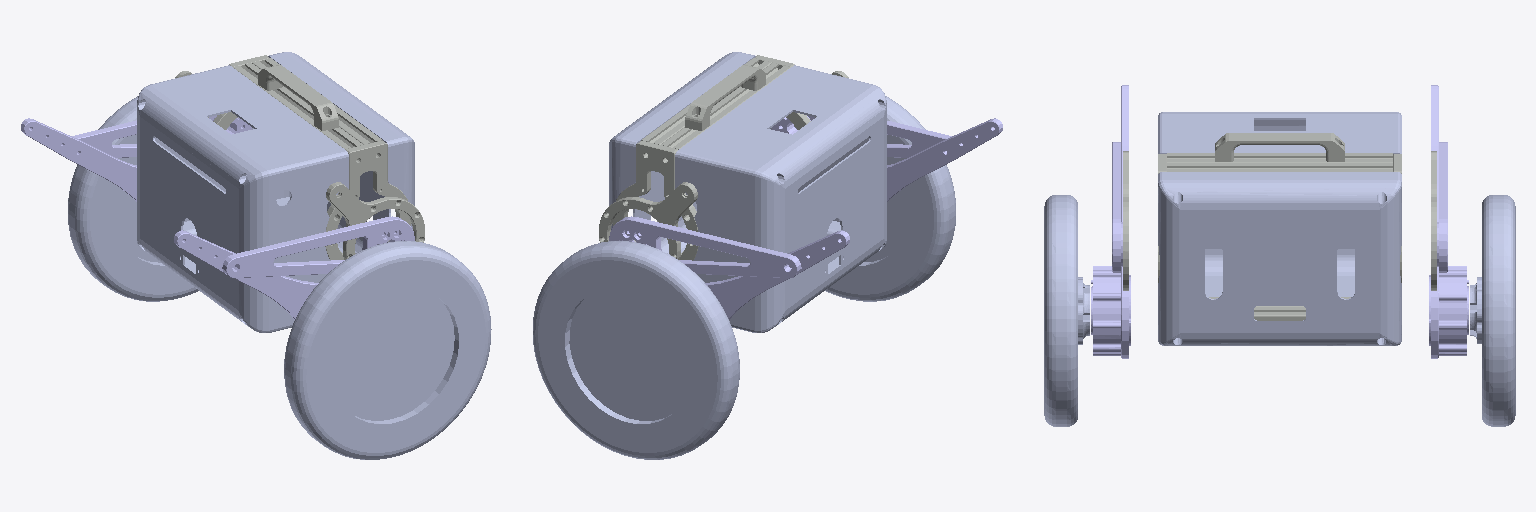
The robot description file, URDF, robot "Edu_v4":
<?xml version="1.0" encoding="utf-8"?>
<!-- This URDF was automatically created by SolidWorks to URDF Exporter! Originally created by [author] ([email redacted]) 
     Commit Version: 1.6.0-4-g7f85cfe  Build Version: 1.6.7995.38578
     For more information, please see http://wiki.ros.org/sw_urdf_exporter -->
<robot
  name="Edu_v4">
  <link
    name="base_link">
    <inertial>
      <origin xyz="-0.00589457 0.00113829 -0.05282656"/>
      <mass value="2.56800000"/>
      <inertia ixx="0.01981432" ixy="-0.00000000" ixz="0.00057678" iyy="0.00625385" iyz="-0.00000000" izz="0.01642957"/>
    </inertial>
    <visual>
      <origin
        xyz="0 0 0"
        rpy="0 0 0" />
      <geometry>
        <mesh
          filename="../meshes/base_link.STL" />
      </geometry>
      <material
        name="">
        <color
          rgba="0.756862745098039 0.768627450980392 0.752941176470588 1" />
      </material>
    </visual>
    <collision>
      <origin
        xyz="0 0 0"
        rpy="0 0 0" />
      <geometry>
        <mesh
          filename="../meshes/base_link.STL" />
      </geometry>
    </collision>
  </link>
  <link
    name="left_shoulder_link">
    <inertial>
      <origin xyz="0.02319287 0.00232951 0.00696198"/>
      <mass value="0.15000000"/>
      <inertia ixx="0.00002297" ixy="-0.00003393" ixz="-0.00000368" iyy="0.00037816" iyz="-0.00000035" izz="0.00039819"/>
    </inertial>
    <visual>
      <origin
        xyz="0 0 0"
        rpy="0 0 0" />
      <geometry>
        <mesh
          filename="../meshes/left_shoulder_link.STL" />
      </geometry>
      <material
        name="">
        <color
          rgba="0.823529411764706 0.823529411764706 1 1" />
      </material>
    </visual>
    <collision>
      <origin
        xyz="0 0 0"
        rpy="0 0 0" />
      <geometry>
        <mesh
          filename="../meshes/left_shoulder_link.STL" />
      </geometry>
    </collision>
  </link>
  <joint
    name="left_shoulder_joint"
    type="revolute">
    <origin
      xyz="-0.004 0.136 -0.08"
      rpy="1.5708 0 -3.1416" />
    <parent
      link="base_link" />
    <child
      link="left_shoulder_link" />
    <axis
      xyz="0 0 1" />
    <limit
      lower="-1.2754"
      upper="0"
      effort="12"
      velocity="30" />
  </joint>
  <link
    name="left_leg_link">
    <inertial>
      <origin xyz="-0.11633099 -0.08320597 0.00347048"/>
      <mass value="0.44700000"/>
      <inertia ixx="0.00065381" ixy="-0.00064252" ixz="0.00005613" iyy="0.00108827" iyz="0.00004032" izz="0.00166657"/>
    </inertial>
    <visual>
      <origin
        xyz="0 0 0"
        rpy="0 0 0" />
      <geometry>
        <mesh
          filename="../meshes/left_leg_link.STL" />
      </geometry>
      <material
        name="">
        <color
          rgba="0.823529411764706 0.823529411764706 1 1" />
      </material>
    </visual>
    <collision>
      <origin
        xyz="0 0 0"
        rpy="0 0 0" />
      <geometry>
        <mesh
          filename="../meshes/left_leg_link.STL" />
      </geometry>
    </collision>
  </link>
  <joint
    name="left_leg_joint"
    type="revolute">
    <origin
      xyz="0.15929 0.015078 0.00045"
      rpy="0 0 0" />
    <parent
      link="left_shoulder_link" />
    <child
      link="left_leg_link" />
    <axis
      xyz="0 0 1" />
    <limit
      lower="0"
      upper="2.618"
      effort="12"
      velocity="30" />
  </joint>
  <link
    name="left_wheel_link">
    <inertial>
      <origin xyz="-0.00010105 0.00002337 0.01451599"/>
      <mass value="0.54500000"/>
      <inertia ixx="0.00136908" ixy="-0.00000000" ixz="0.00000000" iyy="0.00136908" iyz="0.00000000" izz="0.00263239"/>
    </inertial>
    <visual>
      <origin
        xyz="0 0 0"
        rpy="0 0 0" />
      <geometry>
        <mesh
          filename="../meshes/left_wheel_link.STL" />
      </geometry>
      <material
        name="">
        <color
          rgba="0.792156862745098 0.819607843137255 0.933333333333333 1" />
      </material>
    </visual>
    <collision>
      <origin
        xyz="0 0 0"
        rpy="0 0 0" />
      <geometry>
        <mesh
          filename="../meshes/left_wheel_link.STL" />
      </geometry>
    </collision>
  </link>
  <joint
    name="left_wheel_joint"
    type="continuous">
    <origin
      xyz="-0.13 -0.093274 0.0315"
      rpy="0 0 0" />
    <parent
      link="left_leg_link" />
    <child
      link="left_wheel_link" />
    <axis
      xyz="0 0 1" />
    <limit
      effort="12"
      velocity="30" />
  </joint>
  <link
    name="right_shoulder_link">
    <inertial>
      <origin xyz="-0.02321802 0.00206382 0.00696198"/>
      <mass value="0.15000000"/>
      <inertia ixx="0.00002297" ixy="0.00003393" ixz="0.00000368" iyy="0.00037816" iyz="-0.00000035" izz="0.00039819"/>
    </inertial>
    <visual>
      <origin
        xyz="0 0 0"
        rpy="0 0 0" />
      <geometry>
        <mesh
          filename="../meshes/right_shoulder_link.STL" />
      </geometry>
      <material
        name="">
        <color
          rgba="0.823529411764706 0.823529411764706 1 1" />
      </material>
    </visual>
    <collision>
      <origin
        xyz="0 0 0"
        rpy="0 0 0" />
      <geometry>
        <mesh
          filename="../meshes/right_shoulder_link.STL" />
      </geometry>
    </collision>
  </link>
  <joint
    name="right_shoulder_joint"
    type="revolute">
    <origin
      xyz="-0.004 -0.136 -0.08"
      rpy="1.5708 0 0" />
    <parent
      link="base_link" />
    <child
      link="right_shoulder_link" />
    <axis
      xyz="0 0 -1" />
    <limit
      lower="-1.2754"
      upper="0"
      effort="12"
      velocity="30" />
  </joint>
  <link
    name="right_leg_link">
    <inertial>
      <origin xyz="0.11608679 -0.08355273 0.00347179"/>
      <mass value="0.44700000"/>
      <inertia ixx="0.00065376" ixy="0.00064250" ixz="-0.00005617" iyy="0.00108832" iyz="0.00004026" izz="0.00166657"/>
    </inertial>
    <visual>
      <origin
        xyz="0 0 0"
        rpy="0 0 0" />
      <geometry>
        <mesh
          filename="../meshes/right_leg_link.STL" />
      </geometry>
      <material
        name="">
        <color
          rgba="0.823529411764706 0.823529411764706 1 1" />
      </material>
    </visual>
    <collision>
      <origin
        xyz="0 0 0"
        rpy="0 0 0" />
      <geometry>
        <mesh
          filename="../meshes/right_leg_link.STL" />
      </geometry>
    </collision>
  </link>
  <joint
    name="right_leg_joint"
    type="revolute">
    <origin
      xyz="-0.15929 0.015078 0.00045"
      rpy="0 0 0" />
    <parent
      link="right_shoulder_link" />
    <child
      link="right_leg_link" />
    <axis
      xyz="0 0 -1" />
    <limit
      lower="0"
      upper="2.618"
      effort="12"
      velocity="30" />
  </joint>
  <link
    name="right_wheel_link">
    <inertial>
      <origin xyz="-0.00001023 0.00010322 0.01451599"/>
      <mass value="0.54500000"/>
      <inertia ixx="0.00136908" ixy="0.00000000" ixz="0.00000000" iyy="0.00136908" iyz="-0.00000000" izz="0.00263239"/>
    </inertial>
    <visual>
      <origin
        xyz="0 0 0"
        rpy="0 0 0" />
      <geometry>
        <mesh
          filename="../meshes/right_wheel_link.STL" />
      </geometry>
      <material
        name="">
        <color
          rgba="0.792156862745098 0.819607843137255 0.933333333333333 1" />
      </material>
    </visual>
    <collision>
      <origin
        xyz="0 0 0"
        rpy="0 0 0" />
      <geometry>
        <mesh
          filename="../meshes/right_wheel_link.STL" />
      </geometry>
    </collision>
  </link>
  <joint
    name="right_wheel_joint"
    type="continuous">
    <origin
      xyz="0.13 -0.093274 0.0315"
      rpy="0 0 0" />
    <parent
      link="right_leg_link" />
    <child
      link="right_wheel_link" />
    <axis
      xyz="0 0 -1" />
    <limit
      effort="12"
      velocity="30" />
  </joint>
  <!-- <link
    name="left_upper_link">
    <inertial>
      <origin xyz="0.07991445 -0.00369865 -0.00000000"/>
      <mass value="0.04273000"/>
      <inertia ixx="0.00000120" ixy="0.00000481" ixz="-0.00000000" iyy="0.00010494" iyz="0.00000000" izz="0.00010569"/>
    </inertial>
    <visual>
      <origin
        xyz="0 0 0"
        rpy="0 0 0" />
      <geometry>
        <mesh
          filename="../meshes/left_upper_link.STL" />
      </geometry>
      <material
        name="">
        <color
          rgba="0.823529411764706 0.823529411764706 1 1" />
      </material>
    </visual>
    <collision>
      <origin
        xyz="0 0 0"
        rpy="0 0 0" />
      <geometry>
        <mesh
          filename="../meshes/left_upper_link.STL" />
      </geometry>
    </collision>
  </link>
  <joint
    name="left_upper_joint"
    type="revolute">
    <origin
      xyz="-0.052209 0.143 -0.022547"
      rpy="1.5708 0 3.1416" />
    <parent
      link="base_link" />
    <child
      link="left_upper_link" />
    <axis
      xyz="0 0 1" />
    <limit
      lower="-1.0754"
      upper="1.0754"
      effort="12"
      velocity="30" />
  </joint> -->
  <!-- <link
    name="right_upper_link">
    <inertial>
      <origin xyz="-0.07991445 -0.00369865 0.00000000"/>
      <mass value="0.04273000"/>
      <inertia ixx="0.00000120" ixy="-0.00000481" ixz="-0.00000000" iyy="0.00010494" iyz="-0.00000000" izz="0.00010569"/>
    </inertial>
    <visual>
      <origin
        xyz="0 0 0"
        rpy="0 0 0" />
      <geometry>
        <mesh
          filename="../meshes/right_upper_link.STL" />
      </geometry>
      <material
        name="">
        <color
          rgba="0.823529411764706 0.823529411764706 1 1" />
      </material>
    </visual>
    <collision>
      <origin
        xyz="0 0 0"
        rpy="0 0 0" />
      <geometry>
        <mesh
          filename="../meshes/right_upper_link.STL" />
      </geometry>
    </collision>
  </link>
  <joint
    name="right_upper_joint"
    type="revolute">
    <origin
      xyz="-0.052209 -0.144 -0.022547"
      rpy="1.5708 0 0" />
    <parent
      link="base_link" />
    <child
      link="right_upper_link" />
    <axis
      xyz="0 0 -1" />
    <limit
      lower="-1.0754"
      upper="1.0754"
      effort="12"
      velocity="30" />
  </joint> -->
  <link
    name="front_cover_link">
    <inertial>
      <origin xyz="-0.01450628 -0.00000001 -0.00353267"/>
      <mass value="0.19400000"/>
      <inertia ixx="0.00111820" ixy="0.00000000" ixz="-0.00000000" iyy="0.00041282" iyz="0.00000000" izz="0.00074533"/>
    </inertial>
    <visual>
      <origin
        xyz="0 0 0"
        rpy="0 0 0" />
      <geometry>
        <mesh
          filename="../meshes/front_cover_link.STL" />
      </geometry>
      <material
        name="">
        <color
          rgba="0.792156862745098 0.819607843137255 0.933333333333333 1" />
      </material>
    </visual>
    <collision>
      <origin
        xyz="0 0 0"
        rpy="0 0 0" />
      <geometry>
        <mesh
          filename="../meshes/front_cover_link.STL" />
      </geometry>
    </collision>
  </link>
  <joint
    name="front_cover_joint"
    type="fixed">
    <origin
      xyz="0.052 0 -0.078496"
      rpy="0 0 0" />
    <parent
      link="base_link" />
    <child
      link="front_cover_link" />
    <axis
      xyz="0 0 0" />
  </joint>
  <link
    name="rear_cover_link">
    <inertial>
      <origin xyz="0.04255973 -0.00349397 0.00235904"/>
      <mass value="0.49900000"/>
      <inertia ixx="0.00295846" ixy="0.00000000" ixz="0.00000000" iyy="0.00146584" iyz="-0.00000000" izz="0.00233337"/>
    </inertial>
    <visual>
      <origin
        xyz="0 0 0"
        rpy="0 0 0" />
      <geometry>
        <mesh
          filename="../meshes/rear_cover_link.STL" />
      </geometry>
      <material
        name="">
        <color
          rgba="0.792156862745098 0.819607843137255 0.933333333333333 1" />
      </material>
    </visual>
    <collision>
      <origin
        xyz="0 0 0"
        rpy="0 0 0" />
      <geometry>
        <mesh
          filename="../meshes/rear_cover_link.STL" />
      </geometry>
    </collision>
  </link>
  <joint
    name="rear_cover_joint"
    type="fixed">
    <origin
      xyz="-0.125999999999978 0 -0.0806008253486177"
      rpy="0 0 0" />
    <parent
      link="base_link" />
    <child
      link="rear_cover_link" />
    <axis
      xyz="0 0 0" />
  </joint>
</robot>

--- What the picture shows (computed from the rendered views, not written in the file) ---
The picture shows the robot from 3 angles, left to right: view 1: azimuth 30°, elevation 25°; view 2: azimuth 150°, elevation 25°; view 3: azimuth 270°, elevation 25°; orthographic projection.
Robot: Edu_v4 — 9 links, 8 joints (4 revolute, 2 continuous, 2 fixed); root link base_link; default pose: every joint at zero.
Links seen in each view (by area): view 1: right_wheel_link, rear_cover_link, left_wheel_link, base_link, front_cover_link, right_shoulder_link, left_leg_link, right_leg_link, left_shoulder_link; view 2: left_wheel_link, rear_cover_link, right_wheel_link, base_link, front_cover_link, left_shoulder_link, right_leg_link, left_leg_link, right_shoulder_link; view 3: front_cover_link, rear_cover_link, base_link, right_wheel_link, left_wheel_link, left_leg_link, right_leg_link, left_shoulder_link, right_shoulder_link.
Boxes of the visible links, <box> form: right_wheel_link: <box>284,241,491,459</box>; rear_cover_link: <box>137,65,348,332</box>; left_wheel_link: <box>68,96,253,301</box>; base_link: <box>175,55,424,259</box>; front_cover_link: <box>268,52,414,252</box>; right_shoulder_link: <box>222,216,414,277</box>; left_leg_link: <box>21,118,136,201</box>; right_leg_link: <box>174,230,318,319</box>; left_shoulder_link: <box>72,115,251,157</box>; left_wheel_link: <box>533,241,739,459</box>; rear_cover_link: <box>675,65,886,332</box>; right_wheel_link: <box>770,96,955,301</box>; base_link: <box>599,55,848,260</box>; front_cover_link: <box>609,52,755,253</box>; left_shoulder_link: <box>609,216,801,277</box>; right_leg_link: <box>887,118,1002,201</box>; left_leg_link: <box>705,230,849,319</box>; right_shoulder_link: <box>772,115,951,157</box>; front_cover_link: <box>1158,172,1401,345</box>; rear_cover_link: <box>1158,112,1401,296</box>; base_link: <box>1123,133,1436,320</box>; right_wheel_link: <box>1044,195,1089,426</box>; left_wheel_link: <box>1470,195,1515,426</box>; left_leg_link: <box>1429,85,1468,358</box>; right_leg_link: <box>1091,85,1130,358</box>; left_shoulder_link: <box>1437,142,1447,272</box>; right_shoulder_link: <box>1112,142,1122,272</box>.
Bounding box of the posed robot: 0.2887 × 0.4159 × 0.2807 m (x, y, z).
9 mesh visuals loaded from 9 distinct referenced files (9 binary STL).
